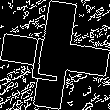L_N: (35, 27, 75, 83)
